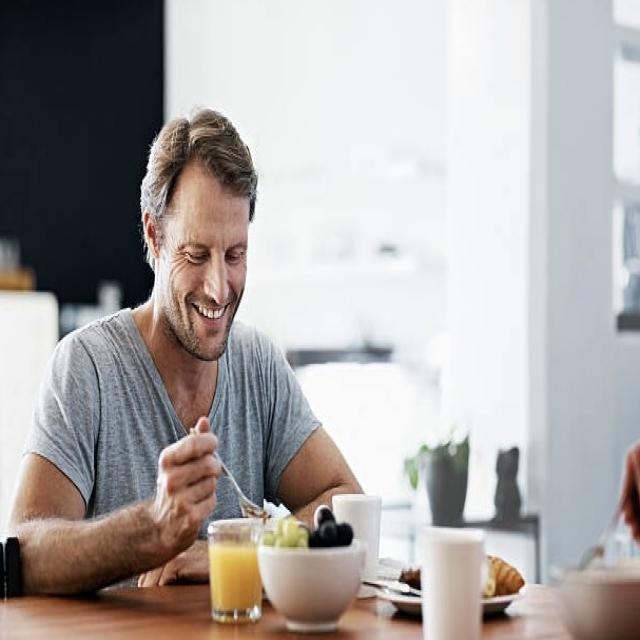eating-person: (10, 93, 384, 632)
